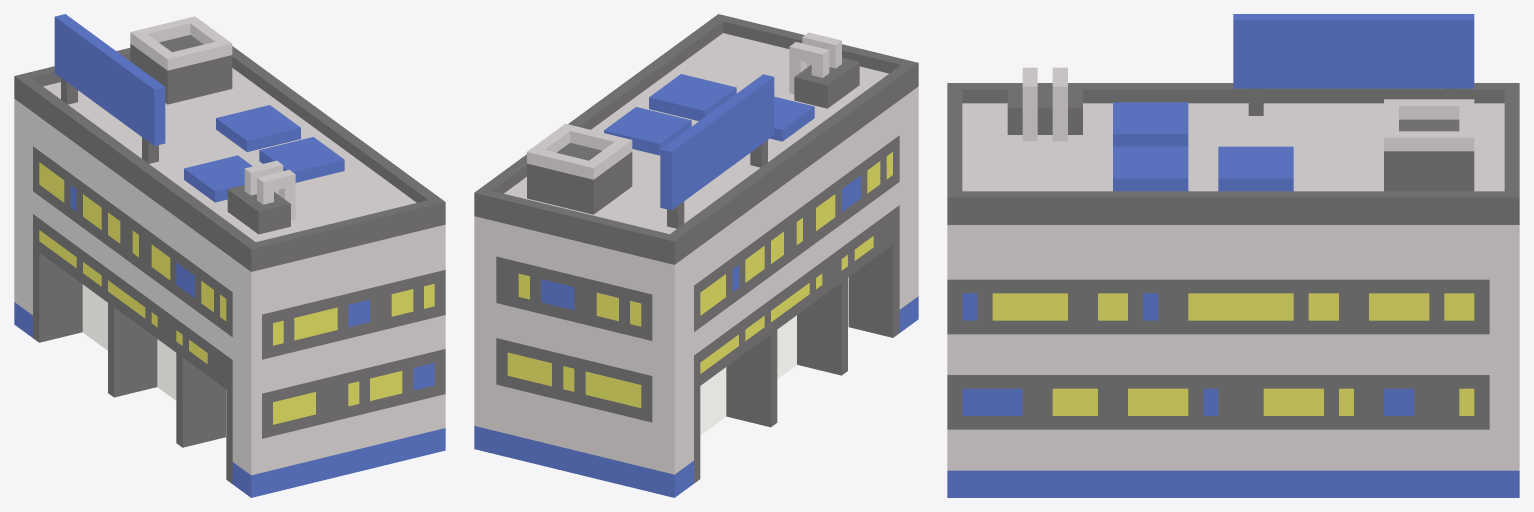
The model's file is shop.glb.
3 renders of one model, left to right at view 1: azimuth 30°, elevation 25°; view 2: azimuth 150°, elevation 25°; view 3: azimuth 270°, elevation 25°, orthographic. The views are drawn at different scales.
Bounding box in the file's own units: 18 × 28 × 38.
1 material, 1 textured.
